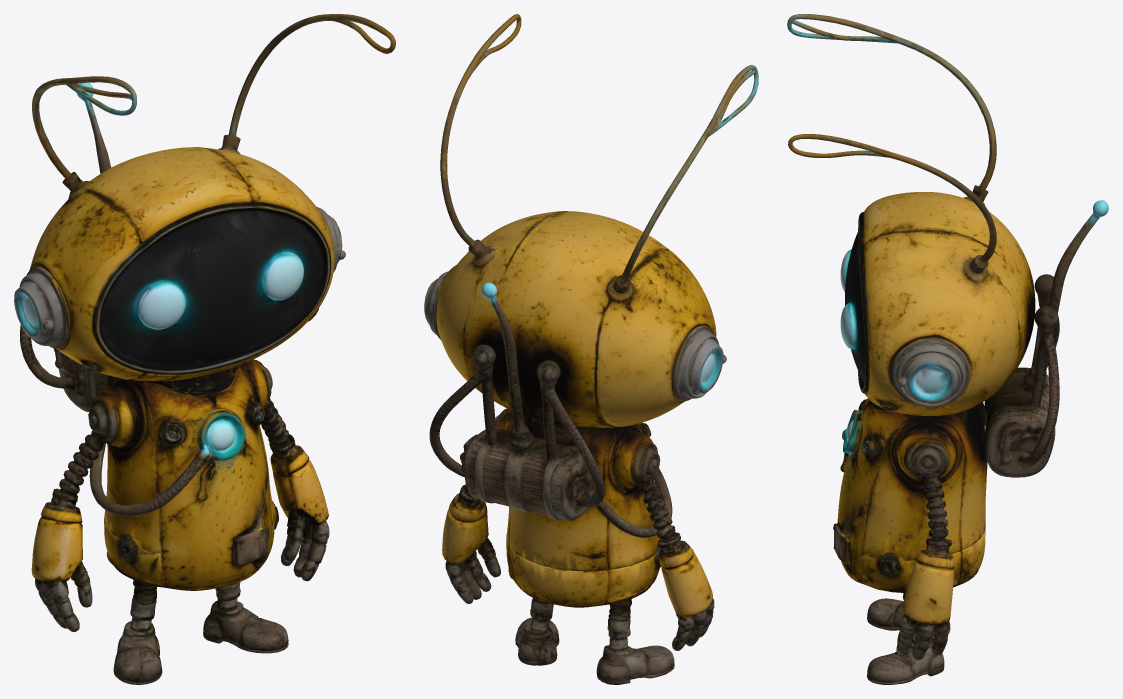
The model's file is pixellabs-glb-3347.high.glb.
The picture shows the model from 3 angles, left to right: view 1: azimuth 30°, elevation 25°; view 2: azimuth 150°, elevation 25°; view 3: azimuth 270°, elevation 25°; orthographic projection. The views are drawn at different scales.
Visible parts, largest first — view 1: material; view 2: material; view 3: material.
Boxes of the visible parts, x1,y1,x2,y2 form: material: (14,14,395,684); material: (424,14,758,684); material: (787,14,1108,684).
Bounding box in the file's own units: 0.5104 × 1.02 × 0.5106.
Materials: 1 (1 with a texture image).
